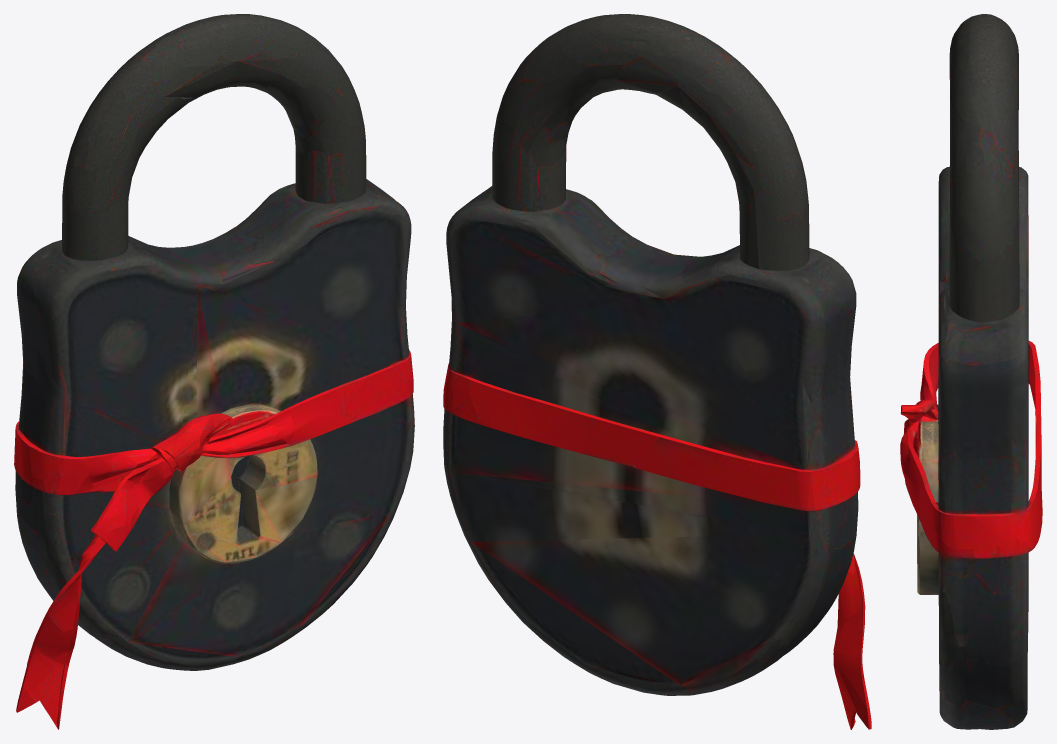
File: padlock.glb
The picture shows the model from 3 angles, left to right: view 1: azimuth 30°, elevation 25°; view 2: azimuth 150°, elevation 25°; view 3: azimuth 270°, elevation 25°; orthographic projection. The views are drawn at different scales.
Bounding box in the file's own units: 1.2 × 1.9 × 0.352.
1 material, 1 textured.
